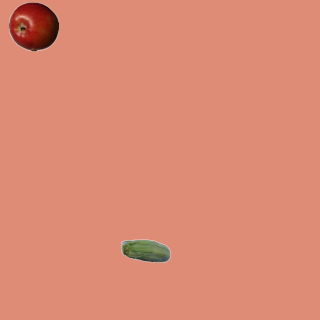Apple Braeburn: (8, 1, 58, 51)
Corn Husk: (120, 227, 170, 277)
